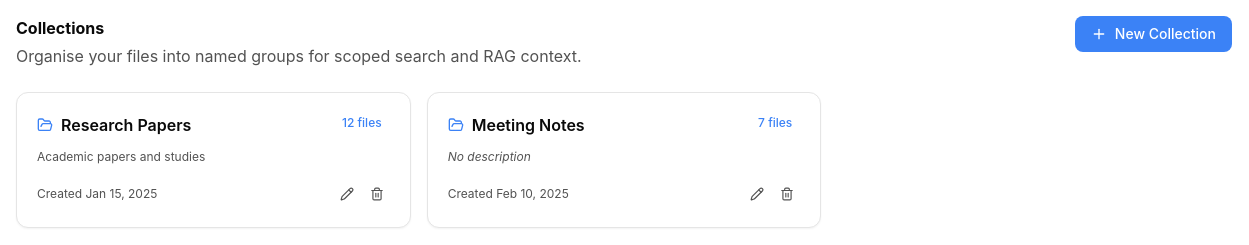
it: CollectionsPage › delete collection › removes a collection from the list after delete confirmation
Expected: the text "Research Papers" is shown, left=61, top=113, right=191, bottom=137
// Click the delete button on the first card
Step 1. Click the 1st button named "delete collection" → (377, 194), box left=364, top=181, right=390, bottom=207
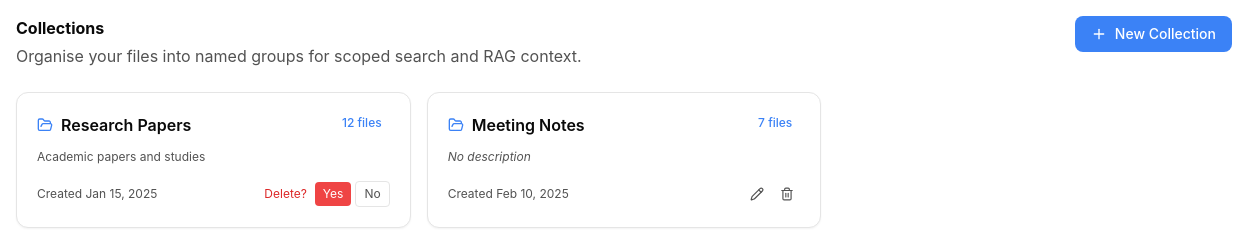
// Confirm delete
Step 2. Click the button with aria-label "confirm delete" → (333, 194), box left=315, top=182, right=351, bottom=206
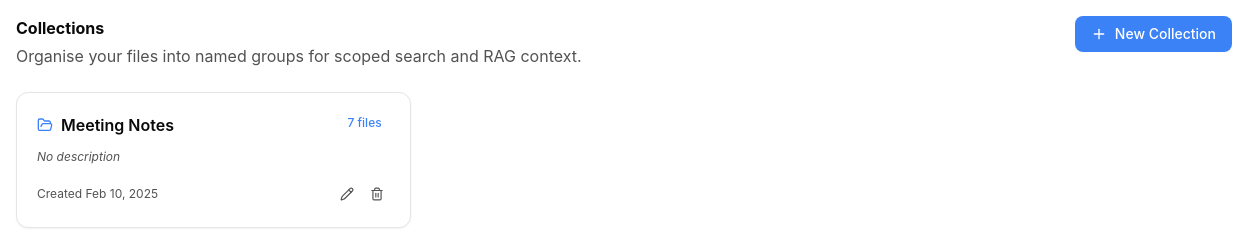
Expected: the button "Research Papers" is gone
